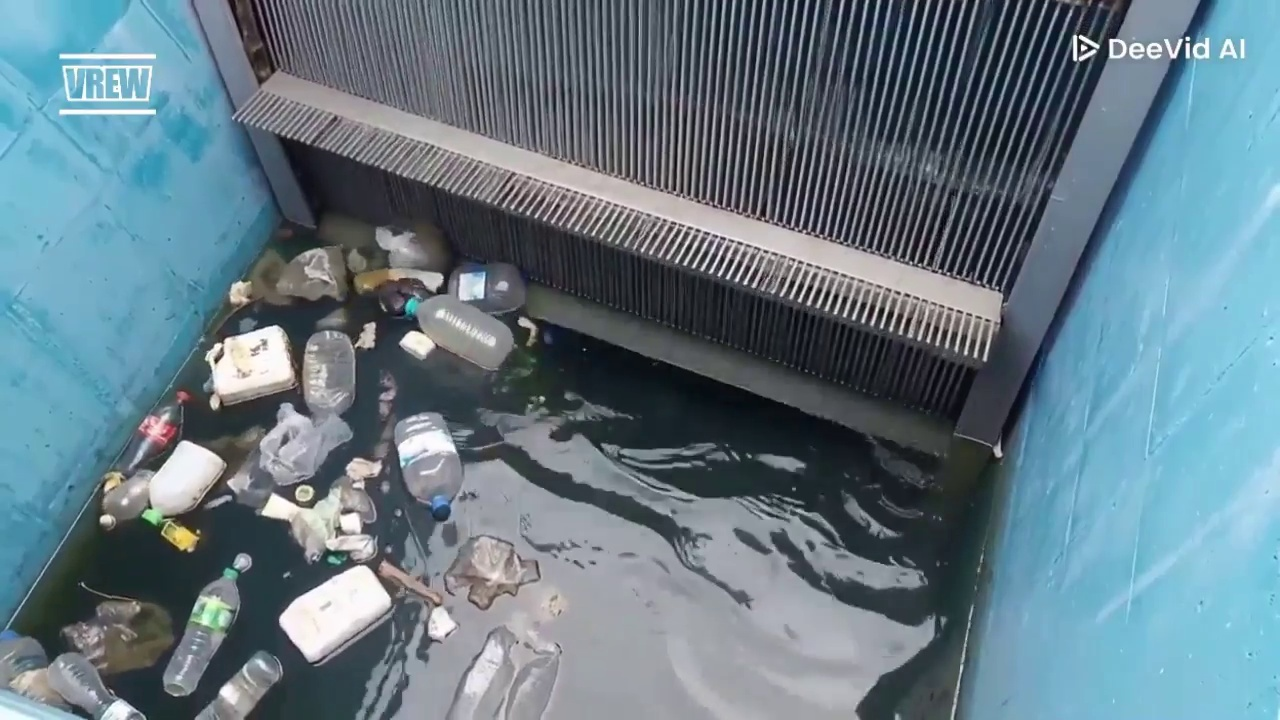debris: (163, 553, 251, 696), (279, 565, 391, 663), (61, 599, 173, 675), (104, 390, 189, 482), (260, 403, 352, 485), (394, 413, 462, 521), (416, 295, 513, 370), (206, 326, 296, 405), (445, 535, 540, 609), (446, 626, 516, 719), (47, 652, 144, 719), (195, 651, 282, 719), (148, 440, 225, 516), (0, 630, 67, 708), (302, 330, 354, 416), (503, 644, 560, 719), (448, 263, 526, 314), (276, 247, 347, 300), (374, 224, 451, 272), (290, 491, 340, 562), (99, 470, 153, 529), (376, 559, 443, 605), (247, 248, 293, 305), (141, 508, 199, 551), (8, 668, 67, 708), (374, 277, 430, 319), (374, 226, 429, 267), (330, 476, 376, 523), (325, 535, 376, 561), (204, 342, 222, 410), (258, 493, 301, 521), (330, 513, 363, 549), (427, 605, 457, 641), (399, 331, 434, 359), (345, 457, 381, 480), (315, 306, 349, 330), (540, 592, 566, 618), (354, 321, 377, 350), (228, 281, 253, 307), (517, 316, 538, 346), (346, 249, 368, 273), (200, 494, 233, 509), (294, 484, 314, 504)
